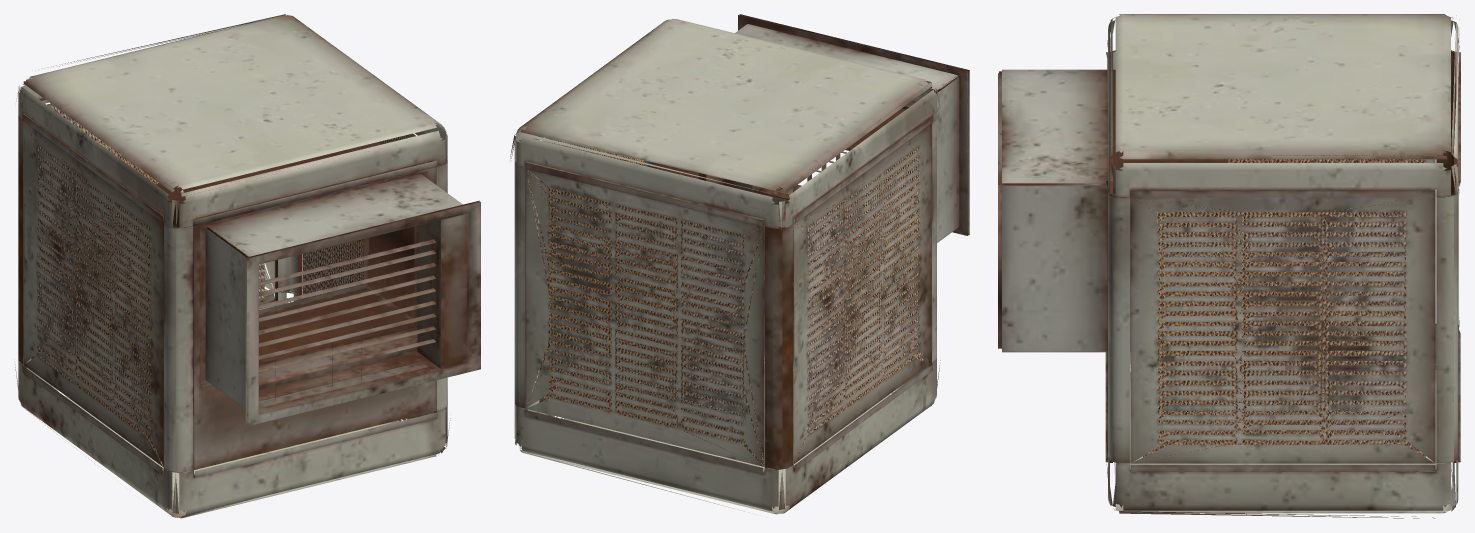
Rendered from ac_window.glb.
3 renders of one model, left to right at view 1: azimuth 30°, elevation 25°; view 2: azimuth 150°, elevation 25°; view 3: azimuth 270°, elevation 25°, orthographic. The views are drawn at different scales.
Parts seen in each view (by area): view 1: ac_window; view 2: ac_window; view 3: ac_window.
Part boxes in pixels (box(x1,y1,x2,y2)): ac_window: box(14, 14, 480, 518); ac_window: box(510, 14, 969, 514); ac_window: box(998, 14, 1460, 518).
Bounding box in the file's own units: 0.4431 × 0.5038 × 0.5804.
3 materials, 3 textured.
